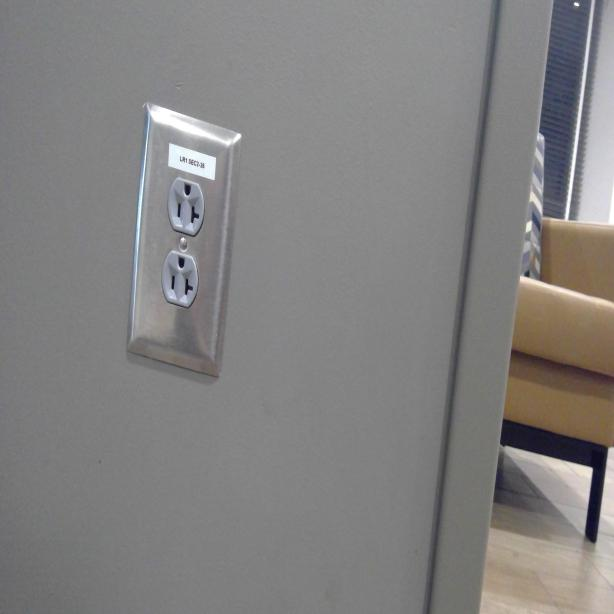typeb: (161, 250, 199, 307), (168, 178, 204, 234)
